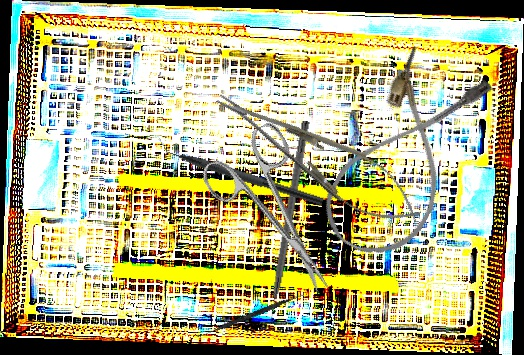Cannula: (310, 40, 500, 273)
Chopper: (153, 134, 328, 207)
Hook Surgical: (263, 120, 311, 331)
Iris Scissors: (194, 119, 360, 314)
Needle Holder: (204, 72, 433, 242)
Spatula Surgical: (195, 290, 304, 342)
